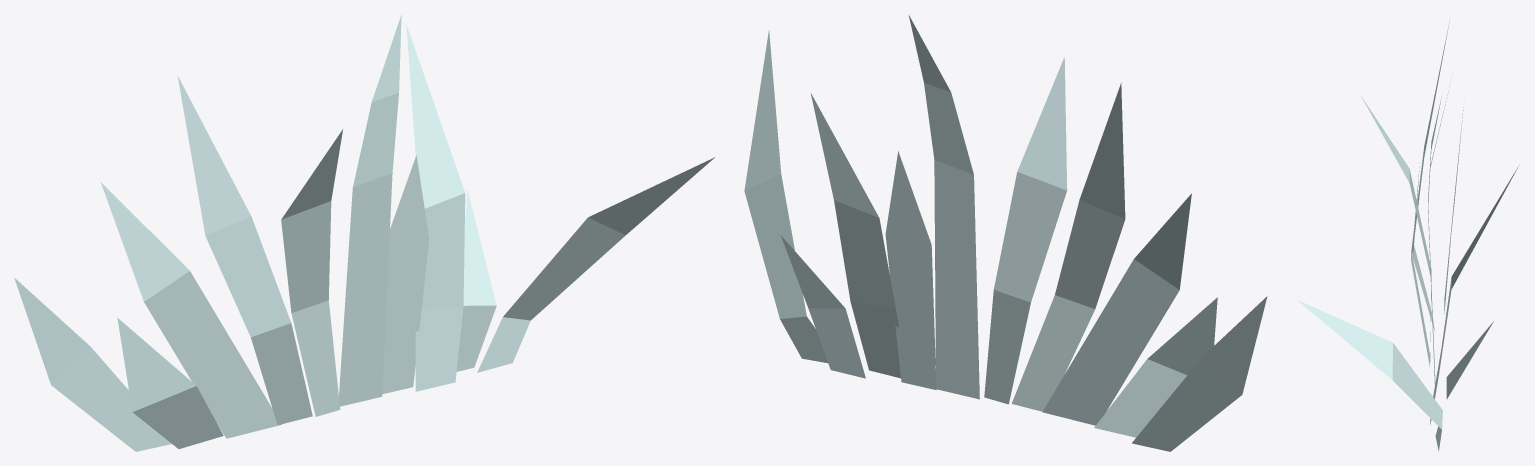
Rendered from grass_white.glb.
3 renders of one model, left to right at view 1: azimuth 30°, elevation 25°; view 2: azimuth 150°, elevation 25°; view 3: azimuth 270°, elevation 25°, orthographic. The views are drawn at different scales.
Parts seen in each view (by area): view 1: grass_winter; view 2: grass_winter; view 3: grass_winter.
Part boxes in pixels (x1,y1,x2,y2): grass_winter: (14, 14, 715, 451); grass_winter: (744, 15, 1267, 451); grass_winter: (1297, 21, 1518, 451).
Size of the model in its own units: 1.48 by 0.8829 by 0.5718.
1 material, 1 textured.
